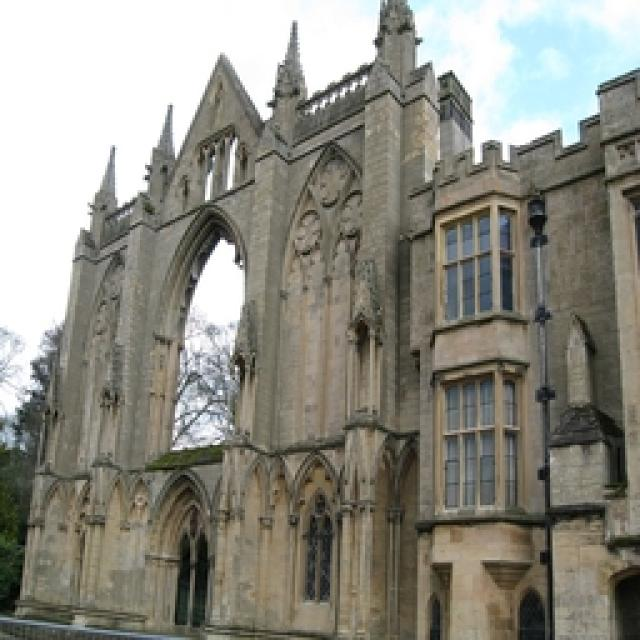Abbey: (159, 170, 257, 634)
